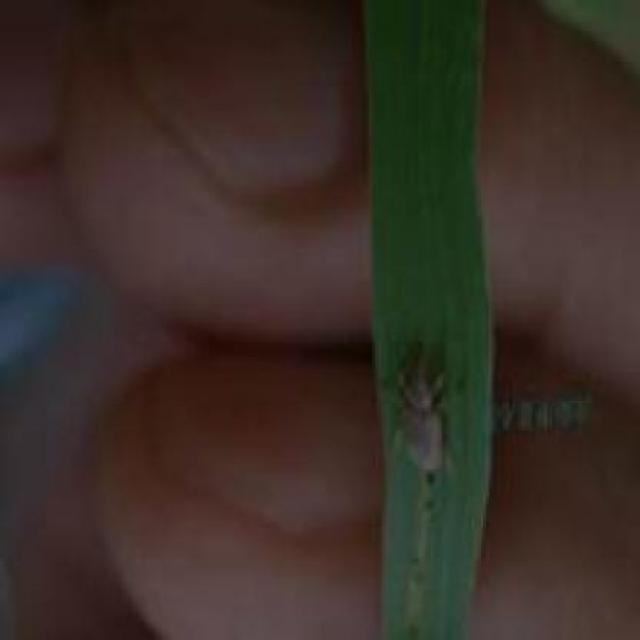rice-bug: (383, 343, 466, 479)
